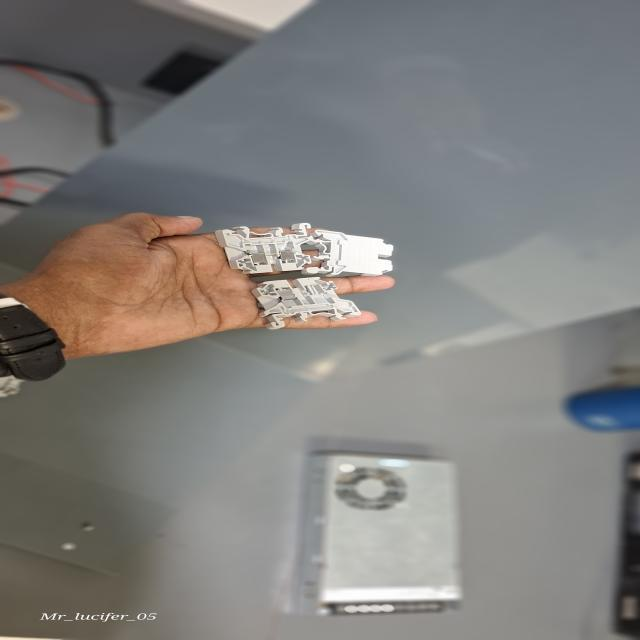Inverted: (304, 229, 398, 277)
Pass: (214, 222, 318, 276)
Reject: (248, 276, 364, 331)
